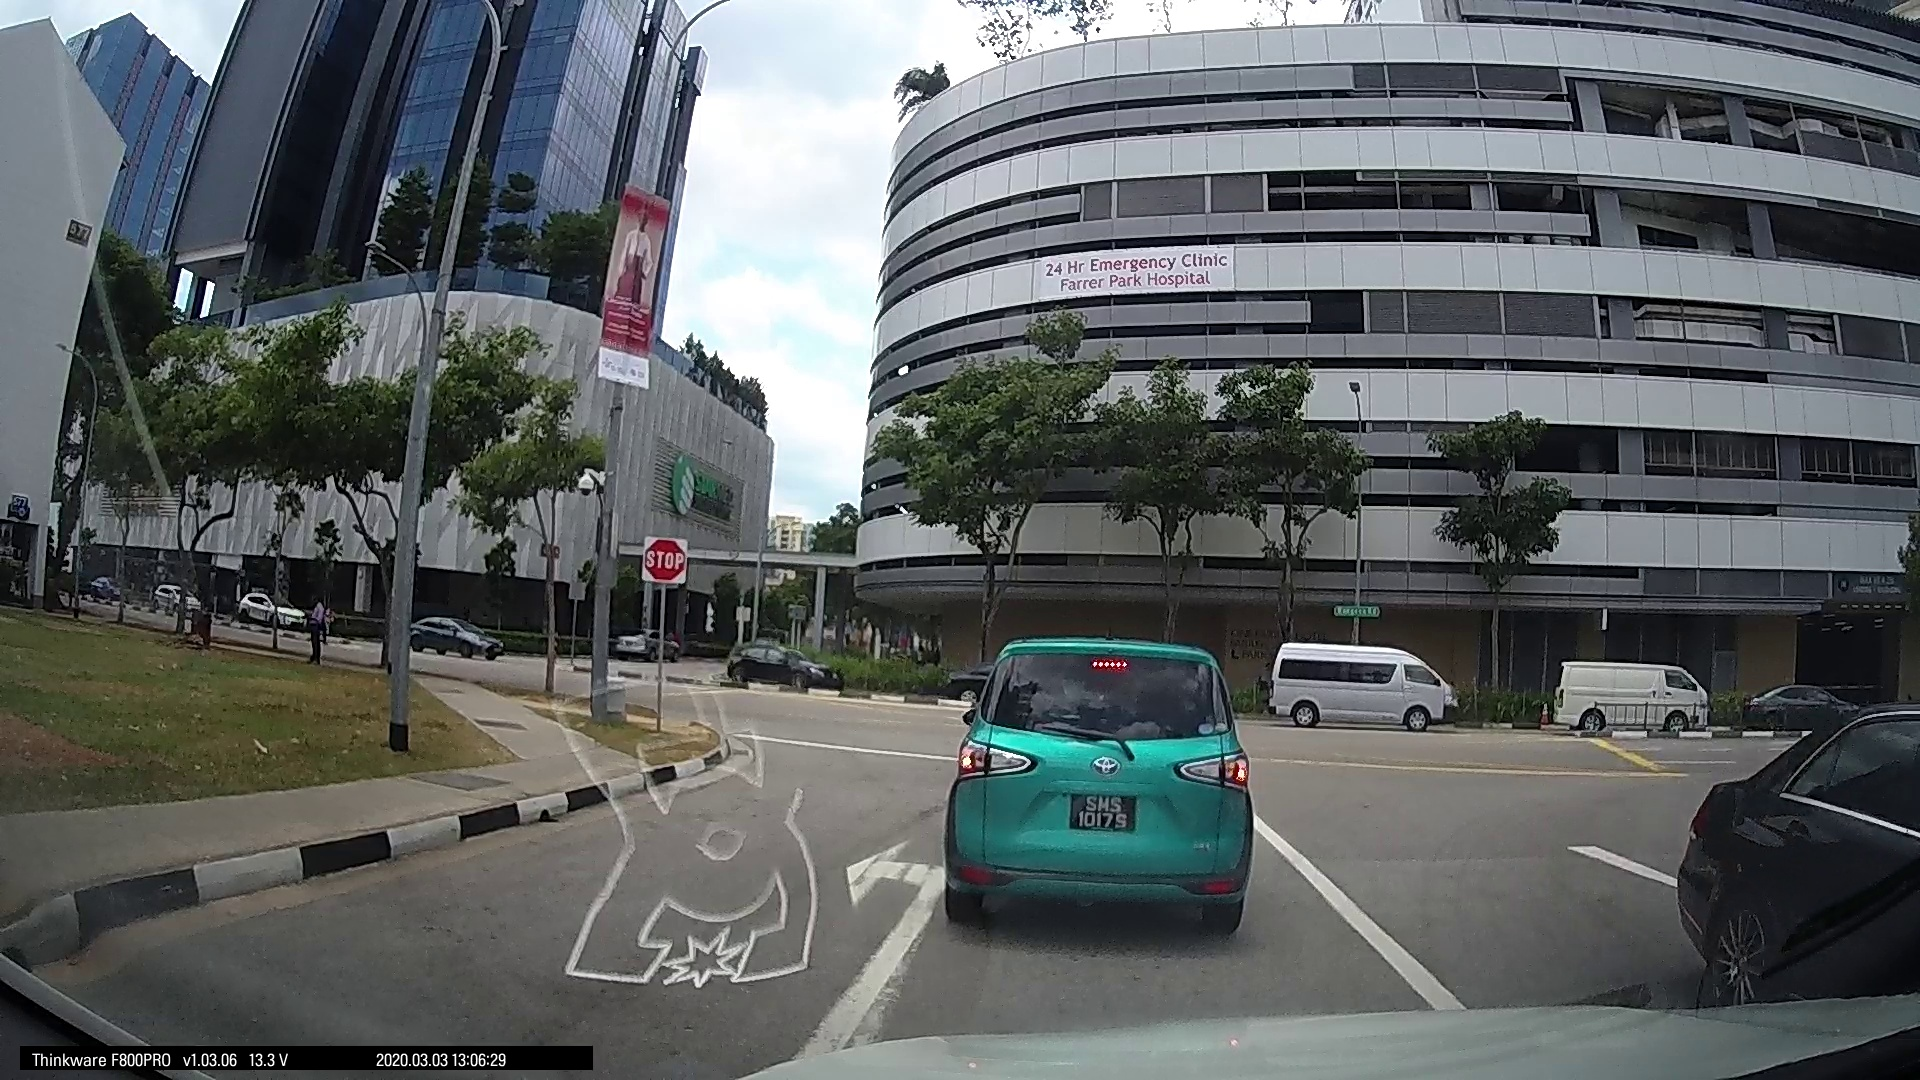Light Vehicle: (932, 617, 1257, 942), (1665, 699, 1919, 1005), (1261, 640, 1458, 735), (1549, 653, 1701, 737), (1735, 678, 1863, 735), (715, 634, 825, 691), (400, 609, 506, 662)
